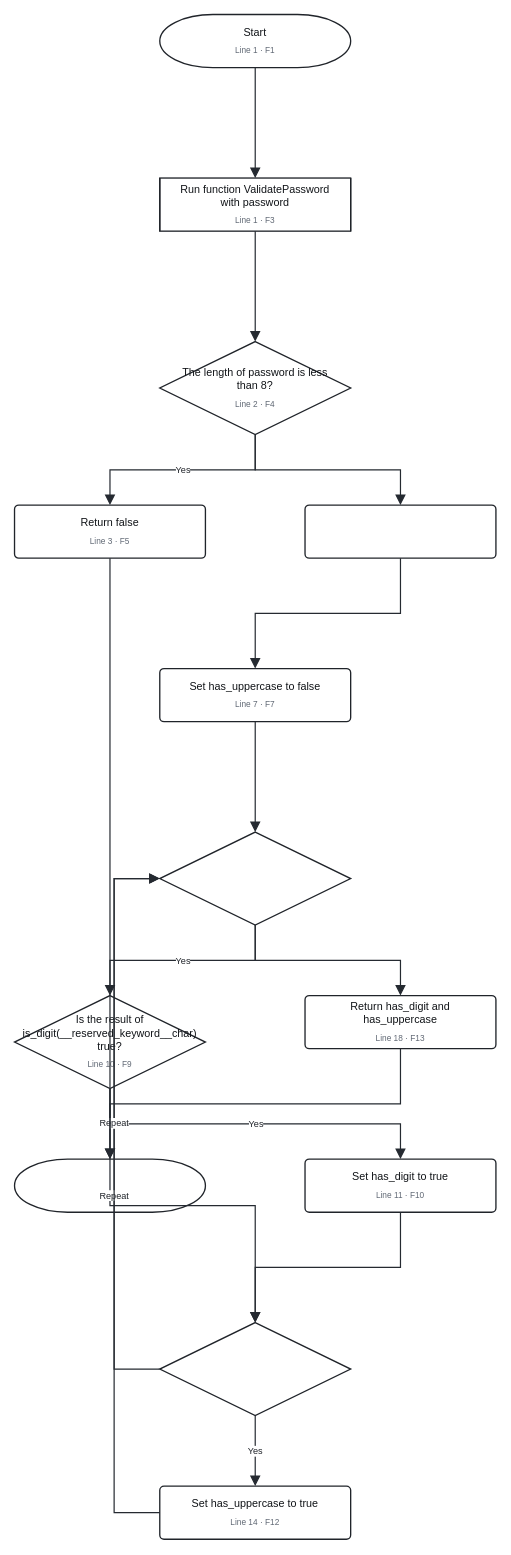
This 511x1555 diagram has some shape labels left out. The shapes that lost their labels are listed below. From the top down, each one's centre as x and y in pixels, then its label:
At pixel 400 531: "Set has_digit to false Line 6 · F6".
At pixel 255 878: "For each __reserved_keyword__char in password Line 9 · F8".
At pixel 109 1185: "End Line 1 · F2".
At pixel 255 1369: "Is the result of is_uppercase(__reserved_keyword__char) true? Line 13 · F11".
